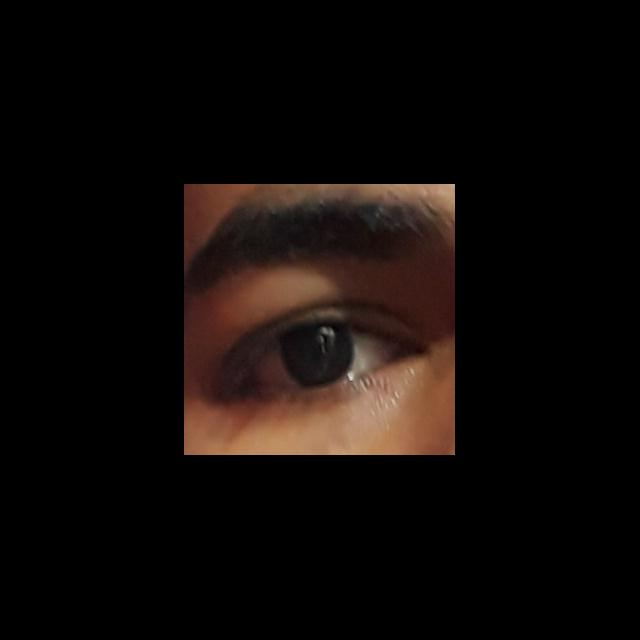eye: (246, 322, 401, 392)
iris: (283, 327, 355, 388)
